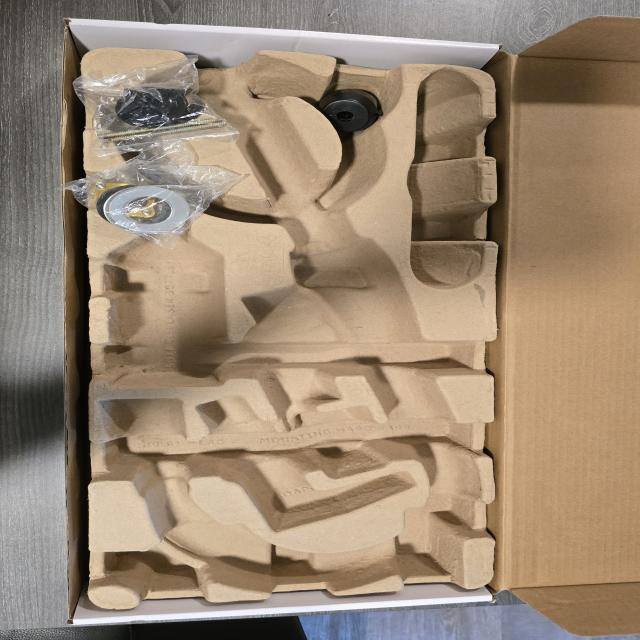1m: (97, 49, 480, 594)
2m: (196, 398, 413, 532)
3m: (104, 211, 222, 386)
4m: (406, 68, 484, 290)
5: (319, 90, 379, 133)
6: (55, 136, 249, 246)
7: (70, 54, 243, 158)
